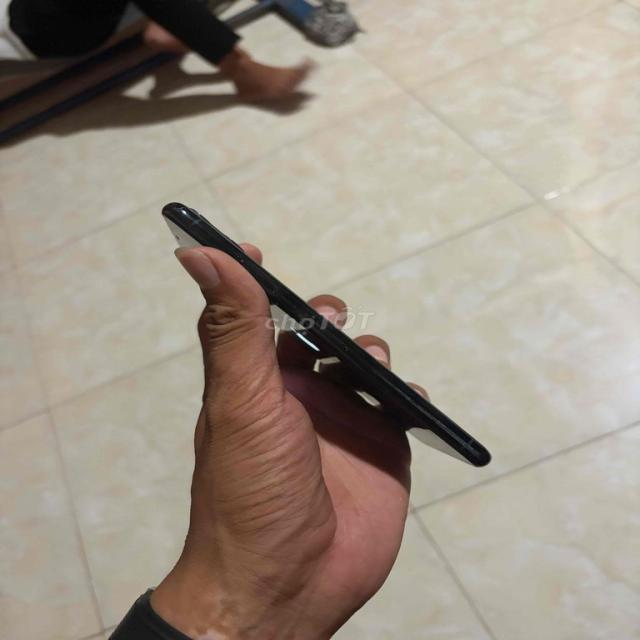gen_11: (162, 202, 490, 466)
